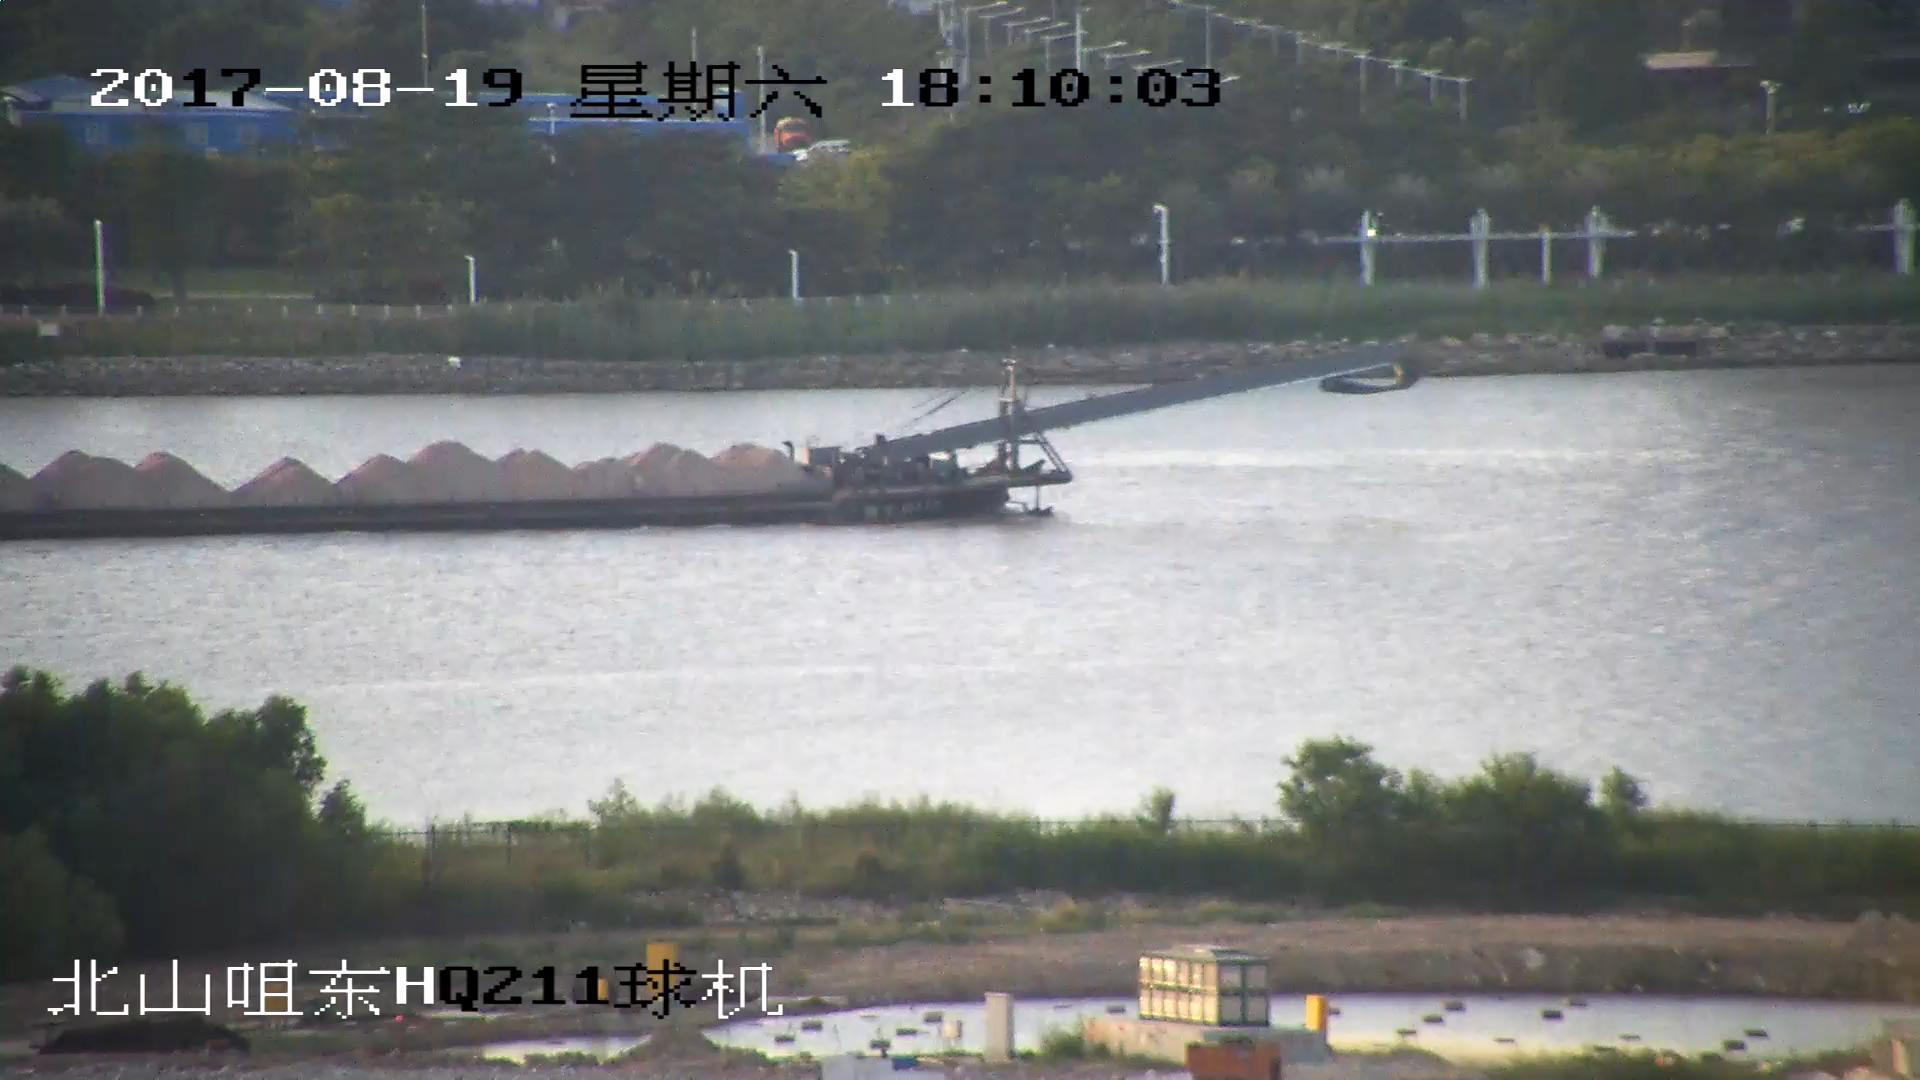Ship: (3, 343, 1410, 545)
